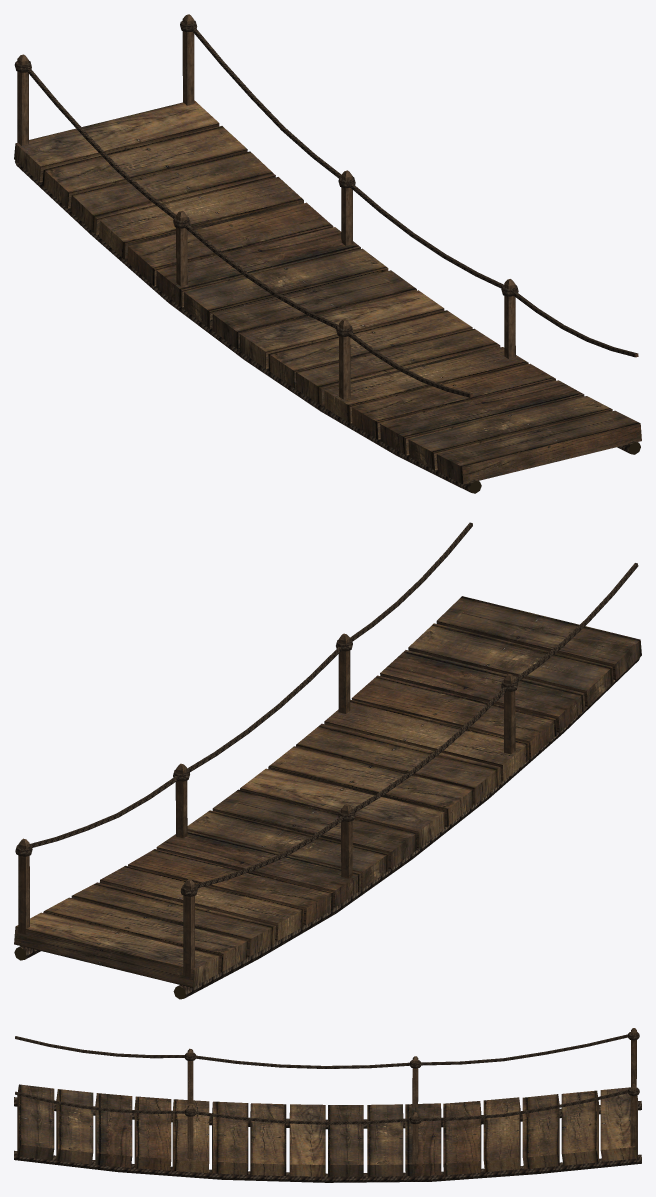
Rendered from FortBridge2.dae.
3 views of the same model, one above another, from view 1: azimuth 30°, elevation 25°; view 2: azimuth 150°, elevation 25°; view 3: azimuth 270°, elevation 25° (orthographic). The views are drawn at different scales.
Parts seen in each view (by area): view 1: fort_wood_sep103-0; view 2: fort_wood_sep103-0; view 3: fort_wood_sep103-0.
Boxes of the visible parts, x1,y1,x2,y2 form: fort_wood_sep103-0: (14,14,641,493); fort_wood_sep103-0: (14,522,641,999); fort_wood_sep103-0: (14,1028,641,1182).
Size of the model in its own units: 2.46 by 1.86 by 10.68.
